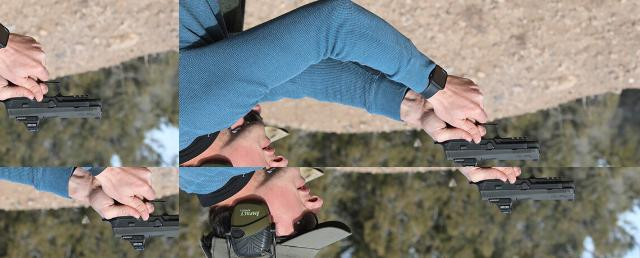handgun: (466, 167, 578, 215), (0, 29, 34, 77), (47, 234, 104, 258)
